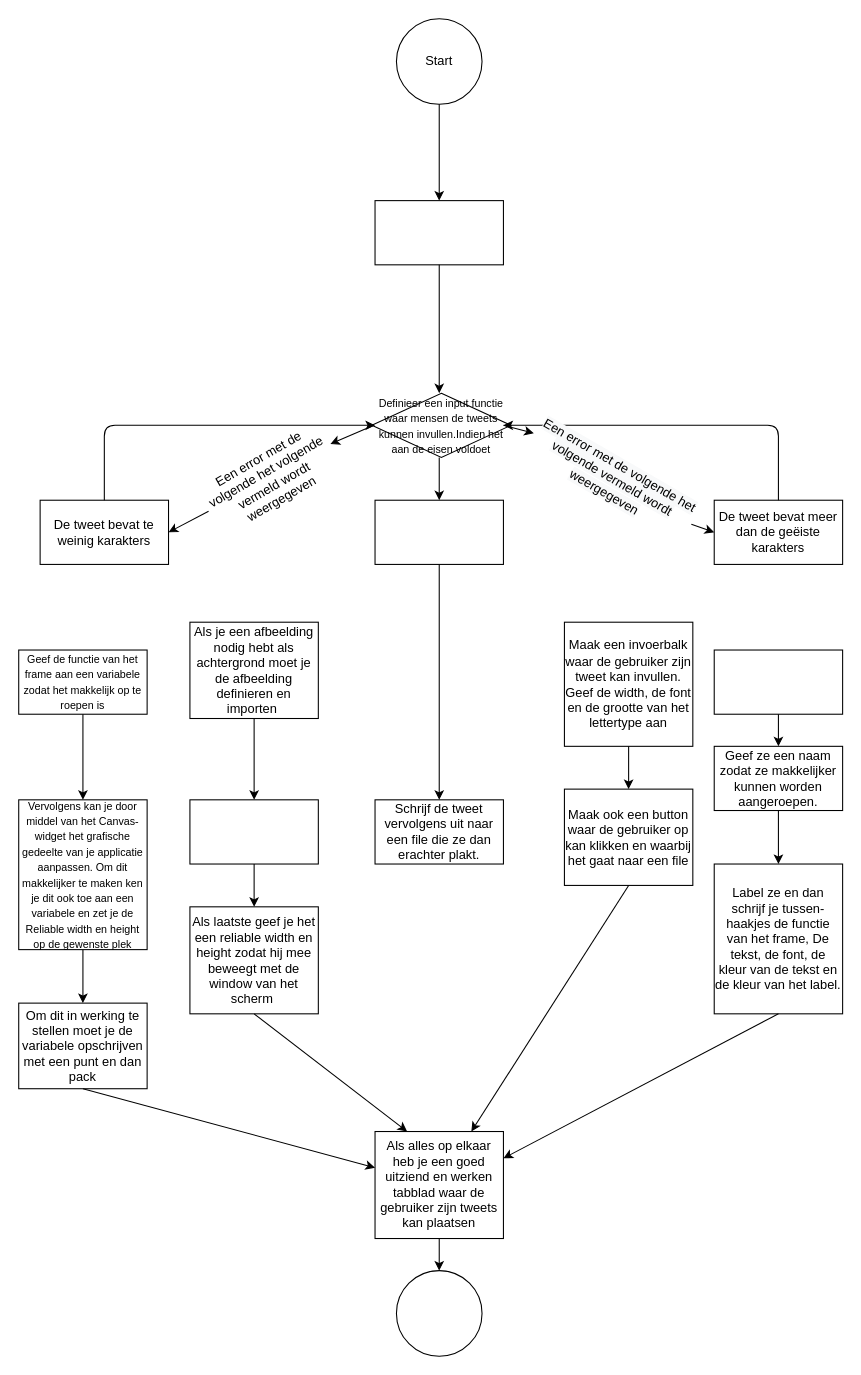
Some shapes in this 861 by 1375 pixel diagram are drawn without their labels. Here are the shapes that lost their labels. From the top down, the box of each, then its label:
(374, 200, 503, 265): Import TKinter zodat je met het format kan werken.
(374, 499, 503, 564): De tweet voldoet aan de eisen
(713, 649, 843, 714): Maak zoveel kopjes aan als er nodig zijn. Om kopjes te maken
(189, 799, 318, 864): Geef een Label uit om het te importen in je applicatie.
(395, 1270, 482, 1356): Einde
